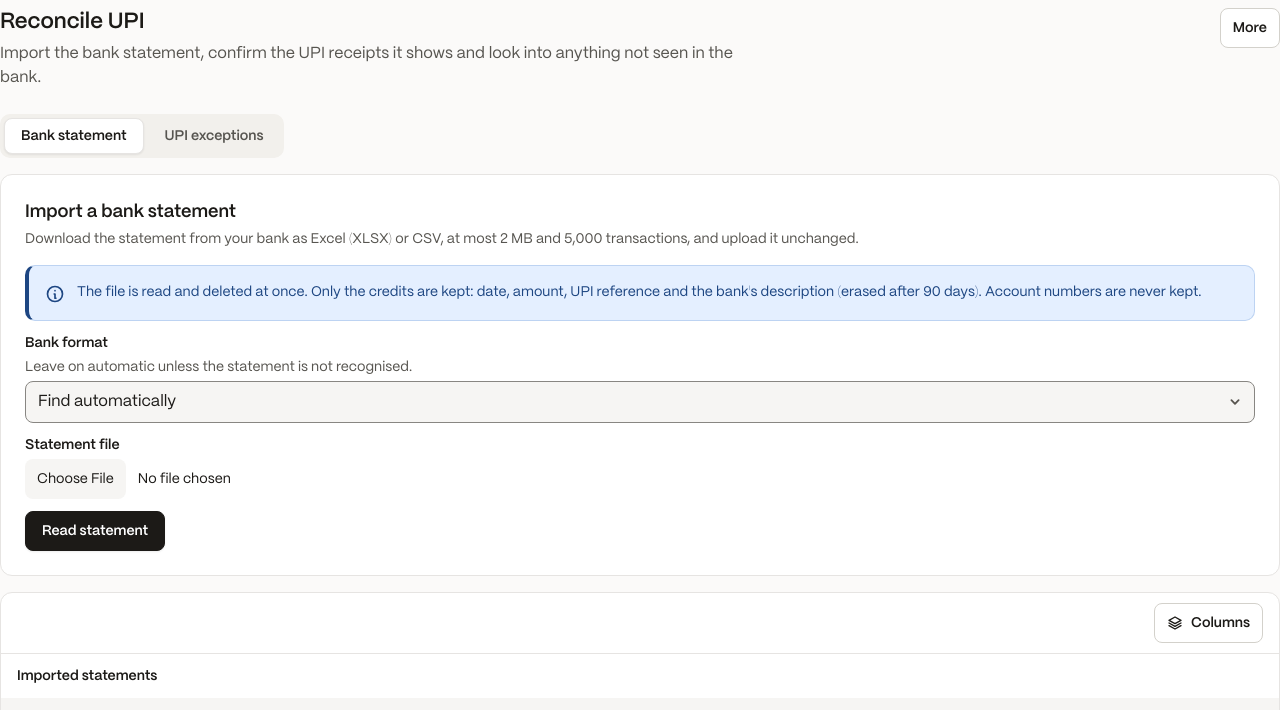
Test: reconcile UPI (US-2109 AC2-AC3, FR-FEE-016/017) › lists UPI receipts not seen in the bank and credits that need a person
Click the tab "UPI exceptions".
click(214, 136)  # box [148,118,280,154]
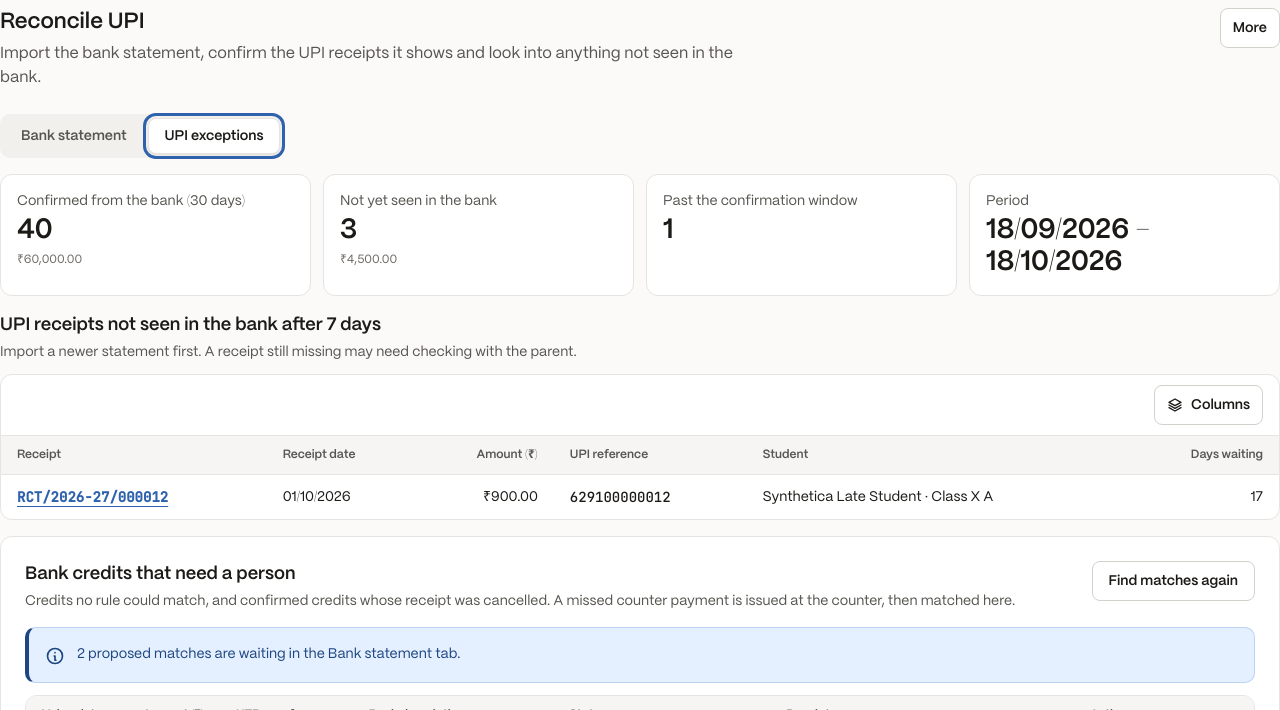
Expected: the link "RCT/2026-27/000012" is shown, [17,488,168,506]
Expected: the text "40" is shown, [17,217,52,244]
Click the button "Find matches again".
click(1173, 581)  # box [1092,561,1255,601]
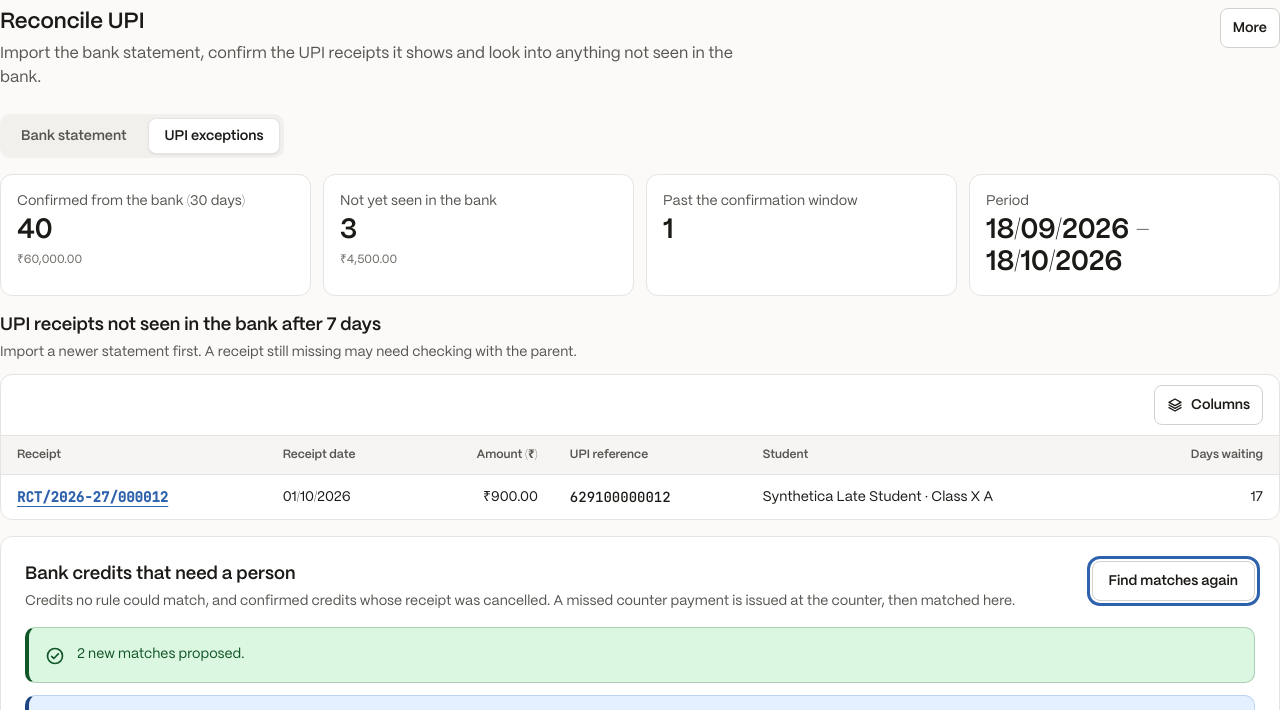
Expected: the text "2 new matches proposed." is shown, [77,647,244,661]
